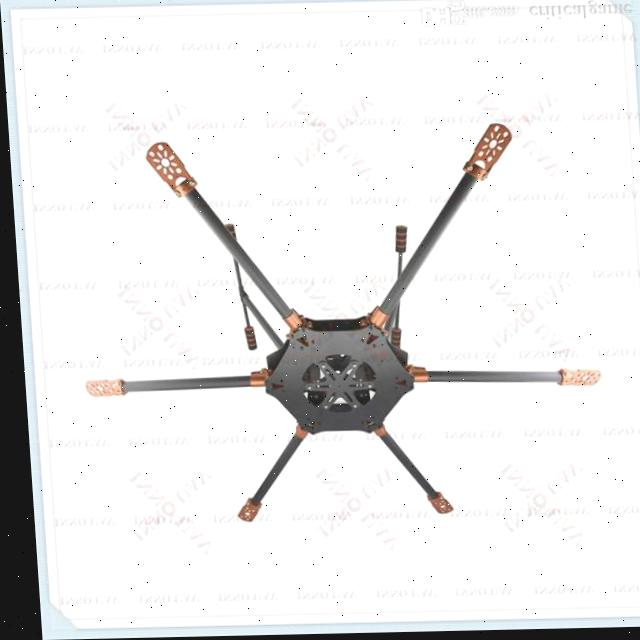drone: (46, 115, 626, 550)
